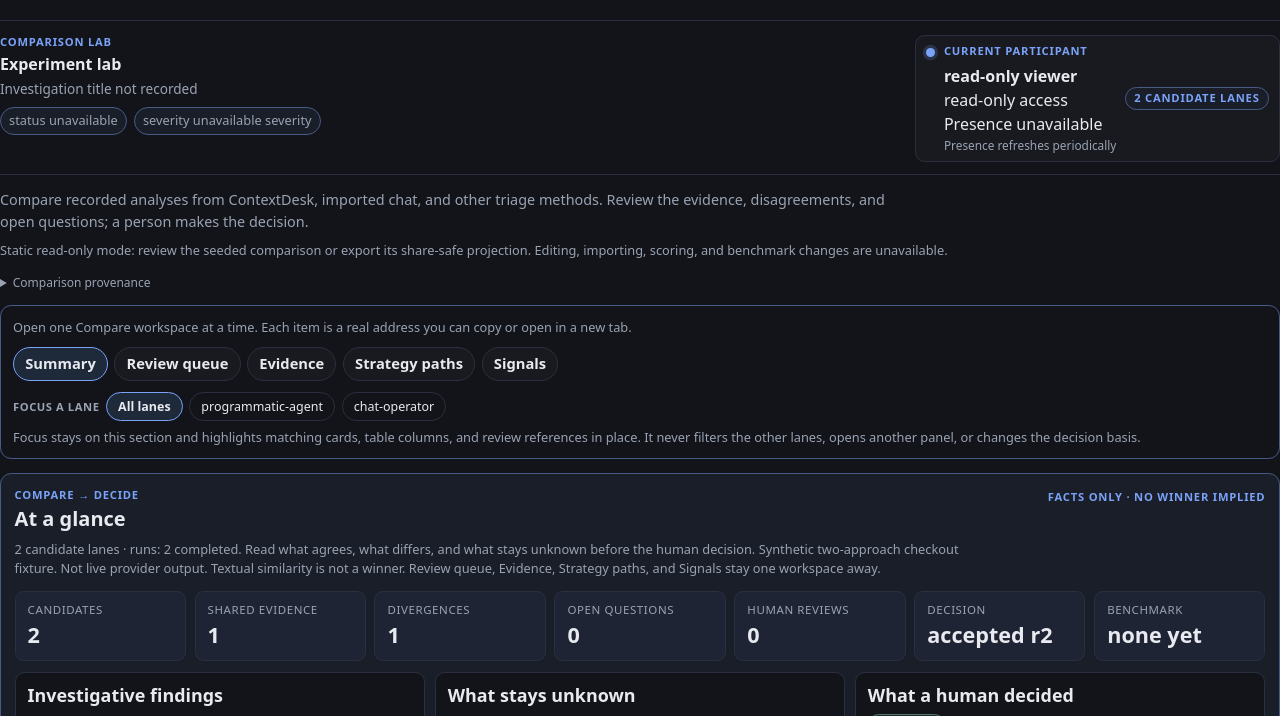
Test case: experiment lab › explains alignment, divergence, and decision state in plain language
Expected: the heading "At a glance" is shown, 15,506 -> 139,532
Step 1. Click the link "Signals" → [520, 364], box 482,347 -> 558,381
(page scrolled)
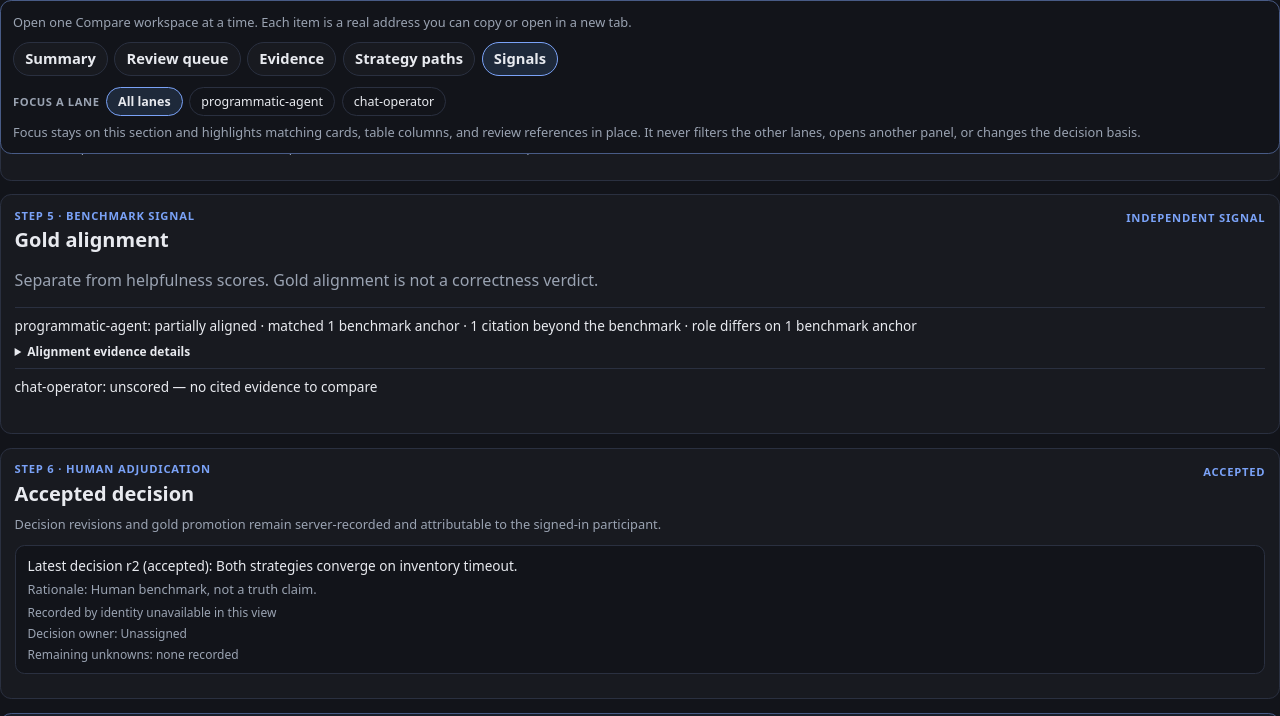
Expected: the text "programmatic-agent: partially aligned" is shown, 15,316 -> 917,336
Expected: the text "role differs on 1 benchmark anchor" is shown, 681,316 -> 917,336
Expected: the text "1 citation beyond the benchmark" is shown, 460,316 -> 681,336
Step 2. Click the link "Strategy paths" → [409, 59], box 343,42 -> 475,76
(page scrolled)
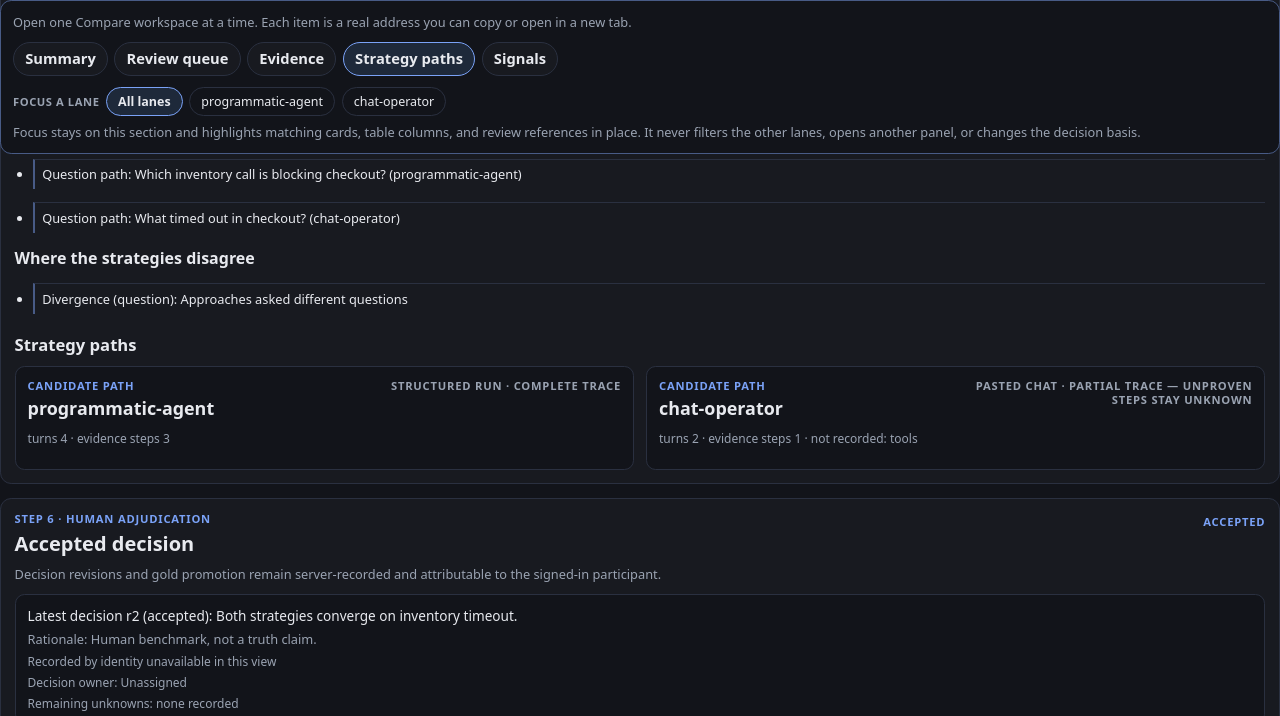
Expected: the text "accepted decision (r2): “Both strategies converge on inventory timeout.”" is shown, 112,85 -> 662,107
Expected: the text "pasted chat · partial trace — unproven steps stay unknown" is shown, 968,379 -> 1252,408
Expected: the text "structured run · complete trace" is shown, 391,379 -> 621,394
